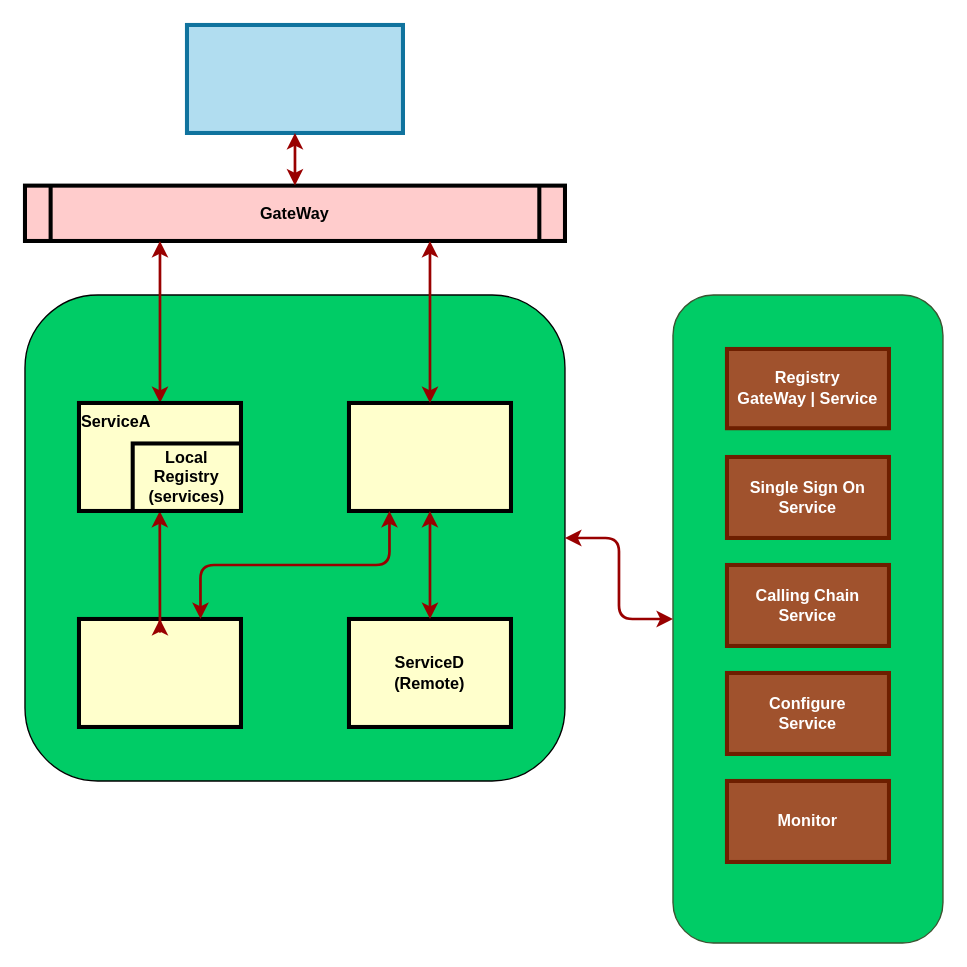
The diagram is 967 pixels wide and 967 high, and some of its shapes have lost their labels. Each missing label, with the centre of its shape:
Client: (x=294, y=78)
ServiceB (Remote): (x=159, y=672)
ServiceC: (x=429, y=456)
